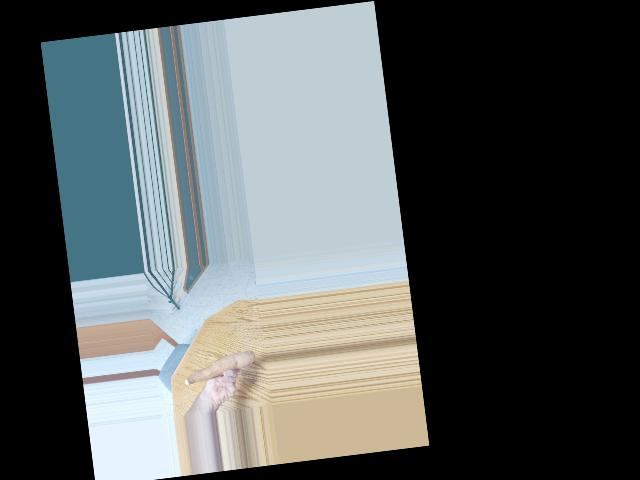sweet_potato: (180, 348, 255, 389)
